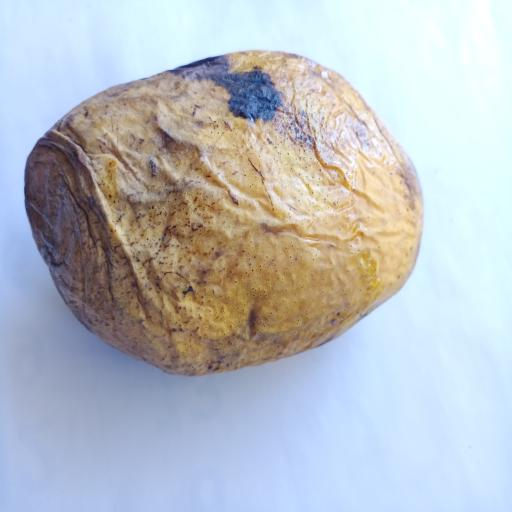mango-overripe: (21, 30, 427, 382)
